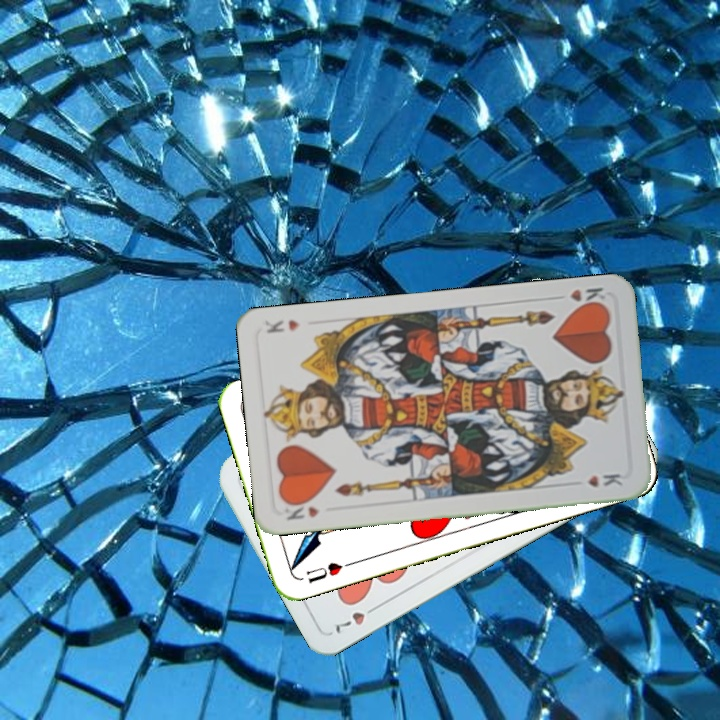H7: (331, 600, 383, 636)
HK: (549, 283, 610, 311), (281, 496, 322, 523)
HU: (302, 558, 355, 586)
